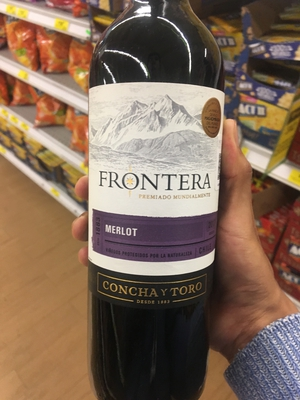frontera merlot: (76, 14, 235, 381)
